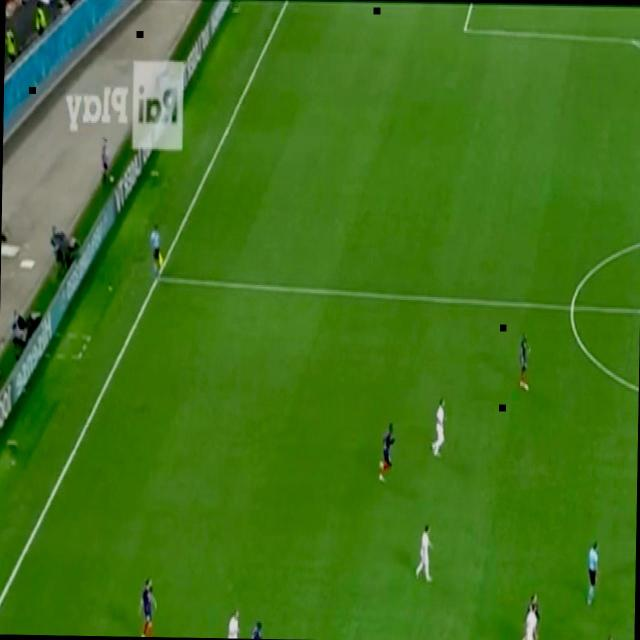player-white: (413, 521, 436, 587), (429, 394, 449, 466), (138, 574, 160, 638), (378, 417, 398, 487), (582, 539, 602, 607), (516, 329, 534, 397), (223, 602, 245, 638), (525, 590, 543, 632), (150, 221, 164, 274), (525, 604, 541, 640), (246, 617, 268, 639), (513, 630, 535, 640), (601, 632, 618, 640)
